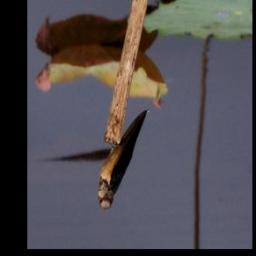Swallow: (98, 106, 149, 211)
